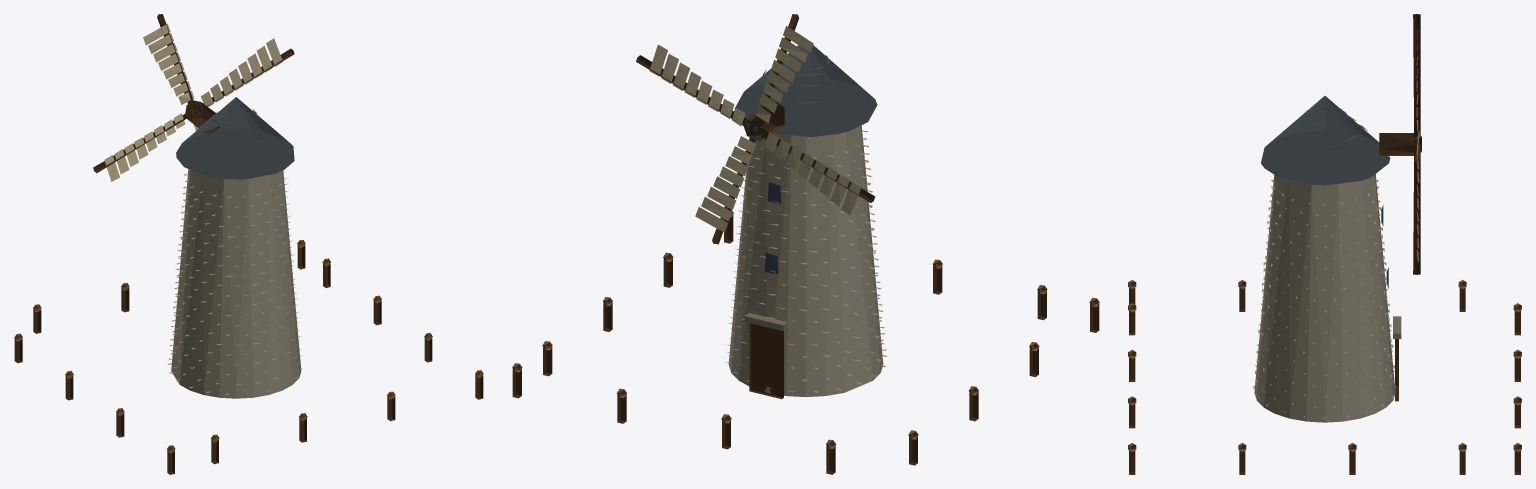
The model's file is rice_mill.glb.
The picture shows the model from 3 angles, left to right: view 1: azimuth 30°, elevation 25°; view 2: azimuth 150°, elevation 25°; view 3: azimuth 270°, elevation 25°; orthographic projection. The views are drawn at different scales.
Bounding box in the file's own units: 5.52 × 5.61 × 5.52.
